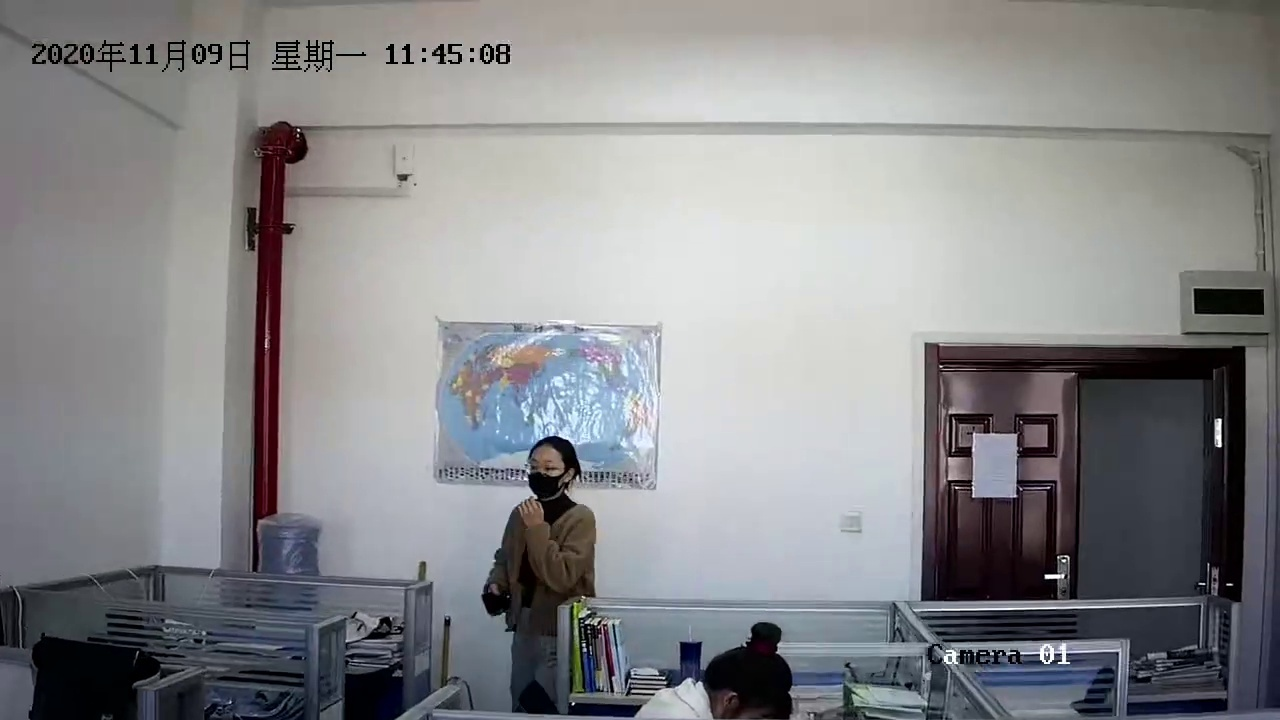mask: (514, 425, 587, 510)
